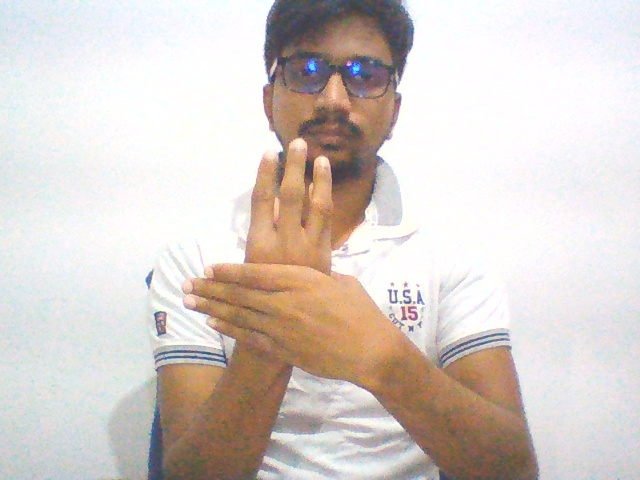tree: (172, 115, 405, 397)
